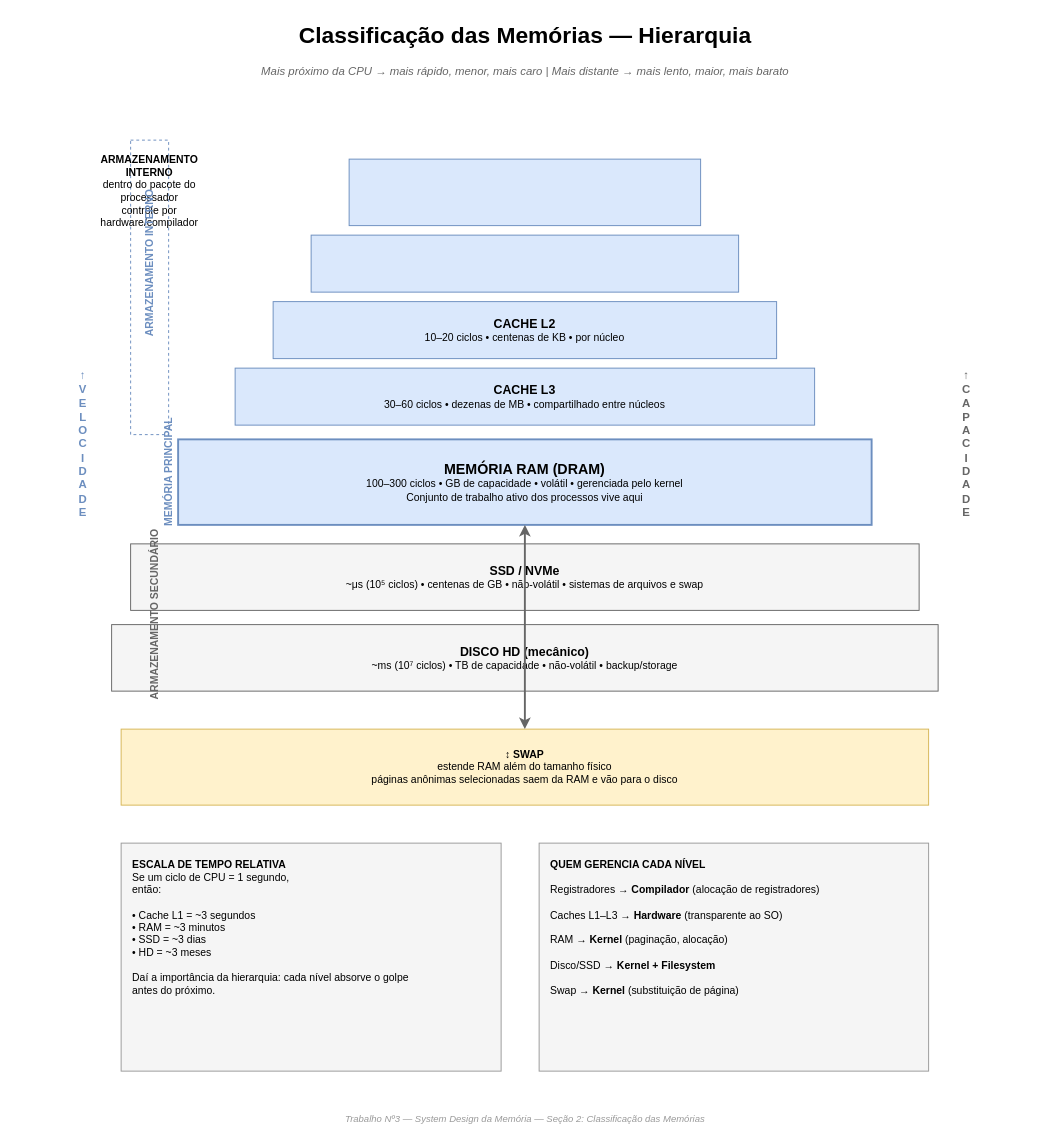
Some shapes in this 1048 by 1144 pixel diagram are drawn without their labels. Each missing label, with the box of its shape:
CACHE L1 1–4 ciclos • dezenas de KB • por núcleo: (310, 234, 739, 292)
REGISTRADORES ~1 ciclo • dezenas de palavras • gerenciados pelo compilador: (348, 158, 701, 226)
